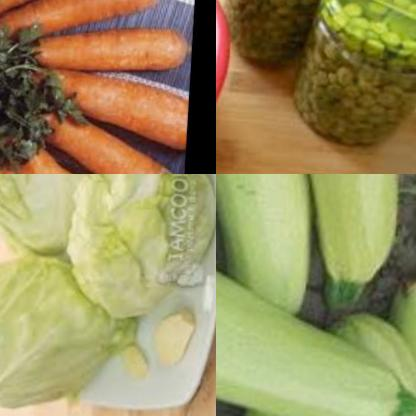cabbage: (0, 238, 120, 413), (70, 174, 216, 317), (0, 174, 124, 257)
carrot: (19, 67, 193, 146), (32, 100, 191, 174), (29, 17, 195, 79), (0, 0, 177, 49), (0, 132, 153, 174)
garlic: (152, 304, 203, 370), (121, 344, 157, 382)
peas: (305, 0, 416, 154), (230, 0, 344, 33)
vegetable marrow: (216, 219, 416, 416), (216, 174, 337, 335), (304, 174, 416, 309), (352, 189, 416, 416)
